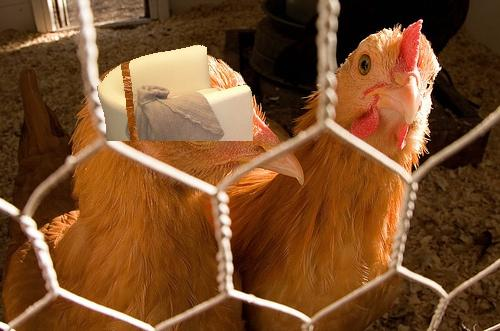tampered: (98, 46, 253, 141)
